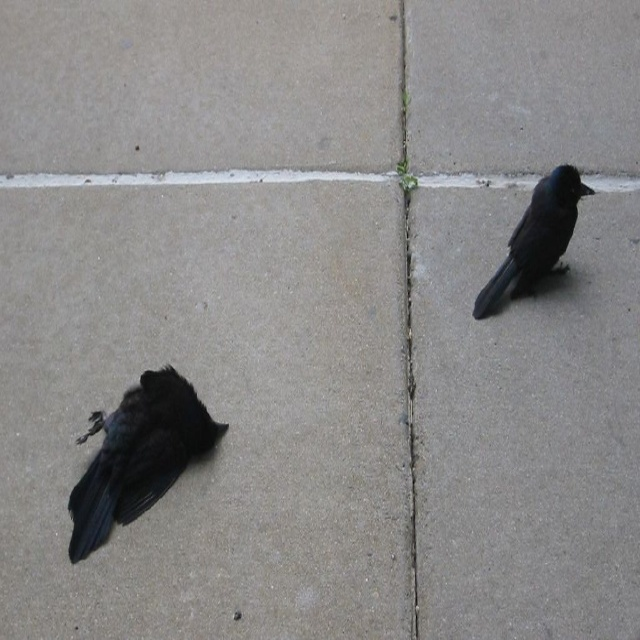Raven: (66, 361, 230, 565), (472, 164, 596, 320)
